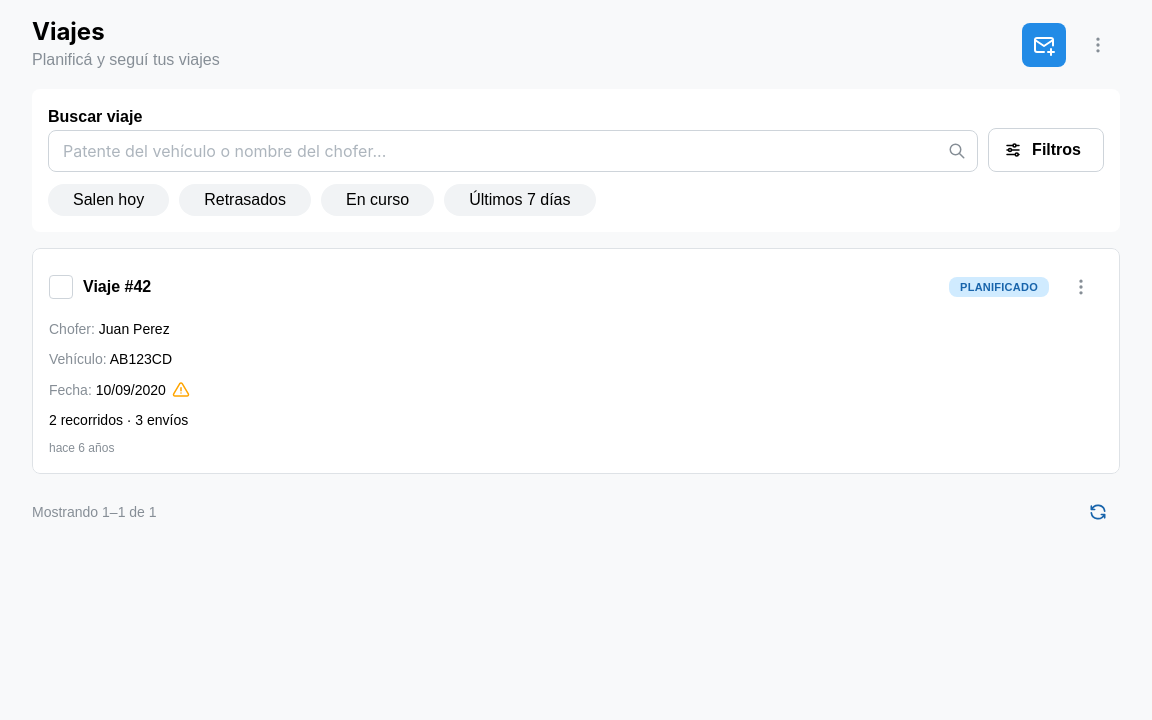
Test: ListaViajes en mobile › seleccionar una tarjeta muestra el banner de selección
Check: the text "Viaje #42" is shown, box [83,278,151,295]
Click the checkbox named "Seleccionar viaje 42": (61,287) [49,275,73,299]
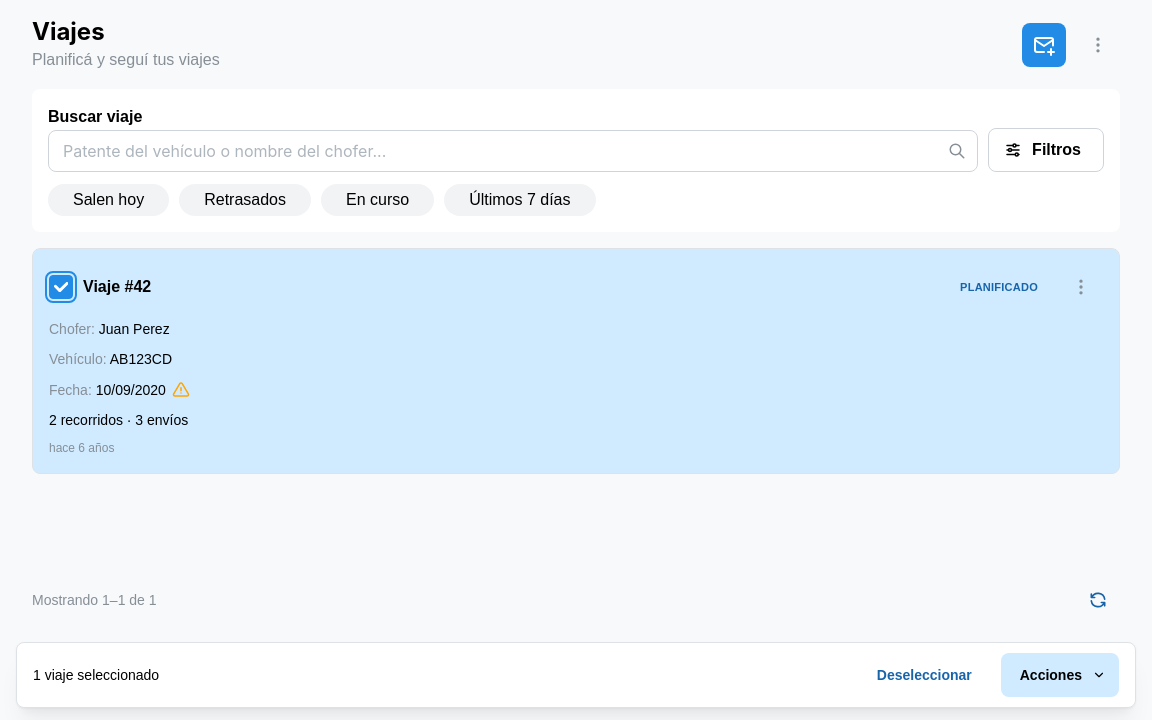
Check: the text "1 viaje seleccionado" is shown, box [33,665,159,685]
